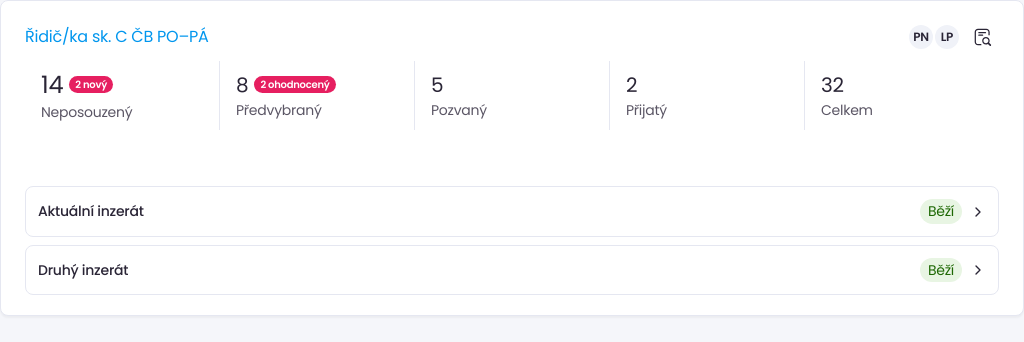
Test case: JobCardSimplify8 › lists multiple advertisements instead of a switcher
Expected: the element with test id "job-card-advertisement-batch" is shown, x1=25 y1=186 x2=999 y2=295
Click the button with test id "job-card-advertisement-batch-item".
click(91, 211)  # box x1=25 y1=186 x2=999 y2=237
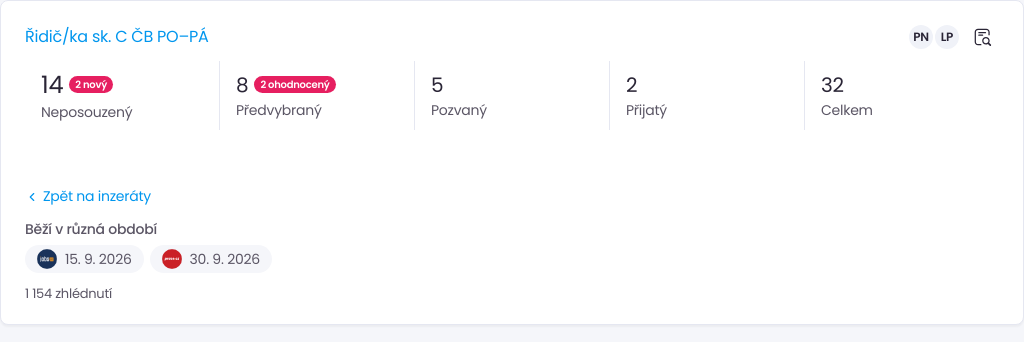
Now the button with test id "job-card-advertisement-batch-back" is shown, box x1=25 y1=186 x2=999 y2=207
Now the element with test id "job-card-advertisement" is shown, box x1=25 y1=219 x2=272 y2=304
